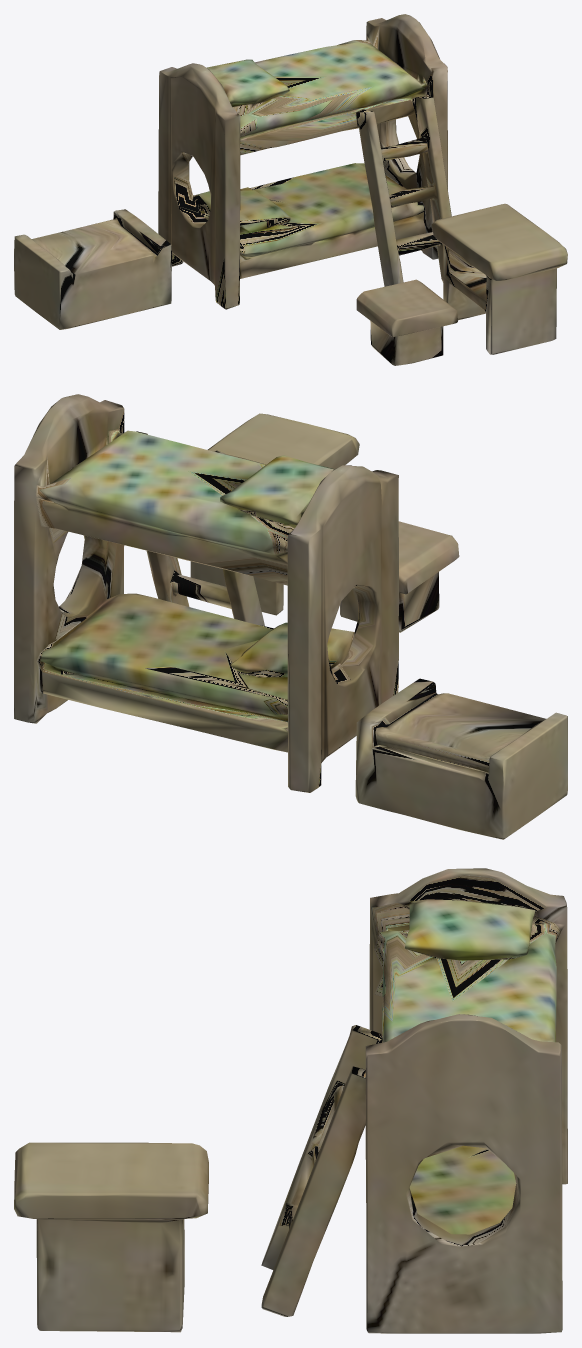
The model's file is gso_children_bedroom_classic.glb.
3 renders of one model, top to bottom at view 1: azimuth 30°, elevation 25°; view 2: azimuth 150°, elevation 25°; view 3: azimuth 270°, elevation 25°, orthographic. The views are drawn at different scales.
Visible parts, largest first — view 1: z-up-to-y-up; view 2: z-up-to-y-up; view 3: z-up-to-y-up.
Part boxes in pixels (left/top/right/bottom): z-up-to-y-up: left=14, top=14, right=567, bottom=365; z-up-to-y-up: left=14, top=394, right=567, bottom=839; z-up-to-y-up: left=14, top=868, right=567, bottom=1333.
Size of the model in its own units: 0.2247 by 0.1249 by 0.1987.
Materials: 1 (1 with a texture image).
